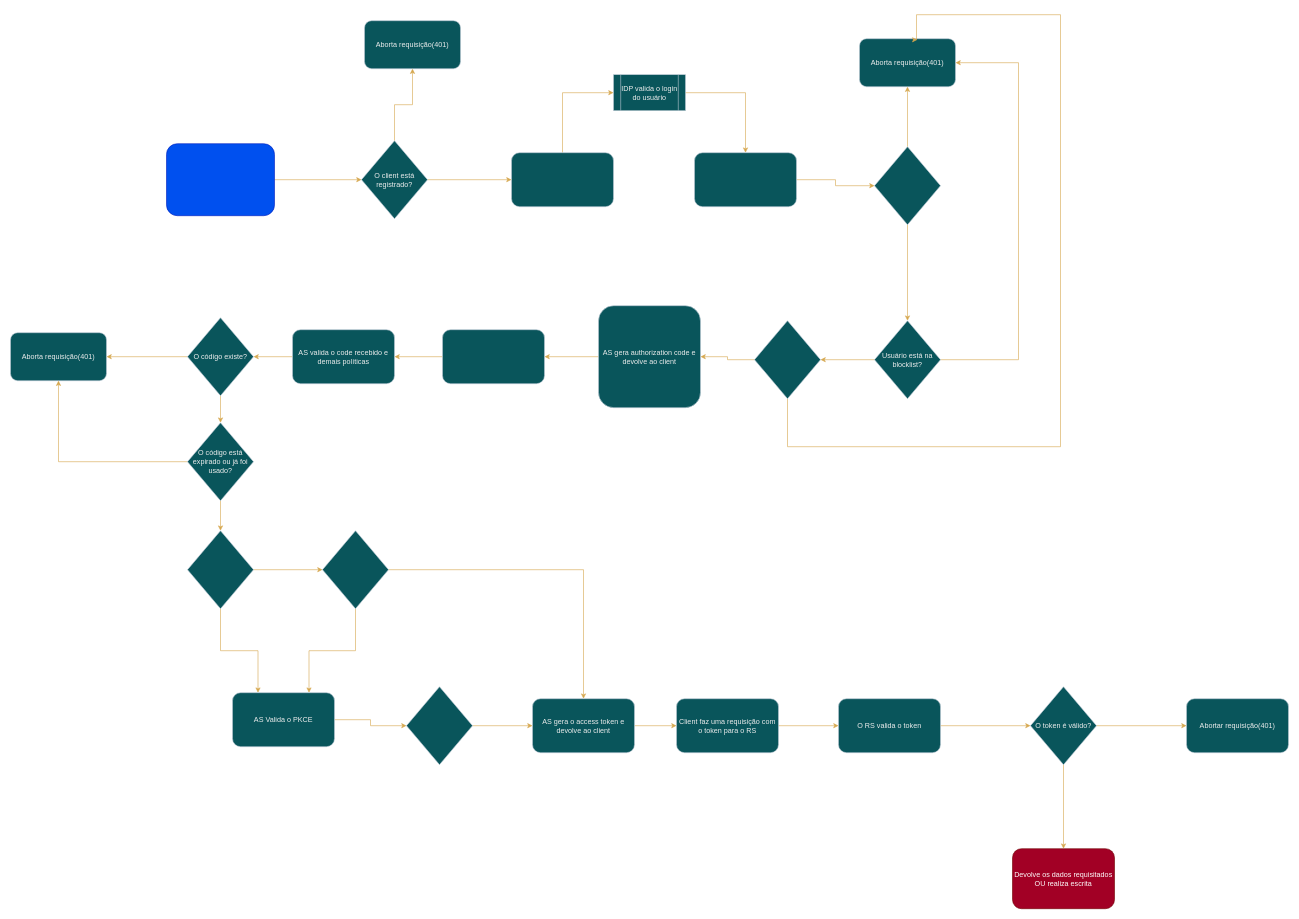
Some shapes in this 1299 by 919 pixel diagram are drawn without their labels. The centre of each missing label's shape, as x and y in pixels:
AS recebe os dados do usuário para validação: point (745, 179)
AS Redireciona para o IDP configurado: point (562, 179)
Client está com o PKCE ativo?: point (355, 569)
Client faz uma nova requisição ao AS para emissão do token, com o code recebido: point (493, 356)
O client é confidencial?: point (220, 569)
PKCE válido?: point (439, 725)
Redirect URI, scopes, response type e client type estão corretos?: point (787, 359)
Usuário existe na User Store configurada?: point (907, 185)
Usuário/Client faz a requisição para o AS: point (220, 179)
